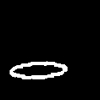chain: (10, 62, 66, 78)
